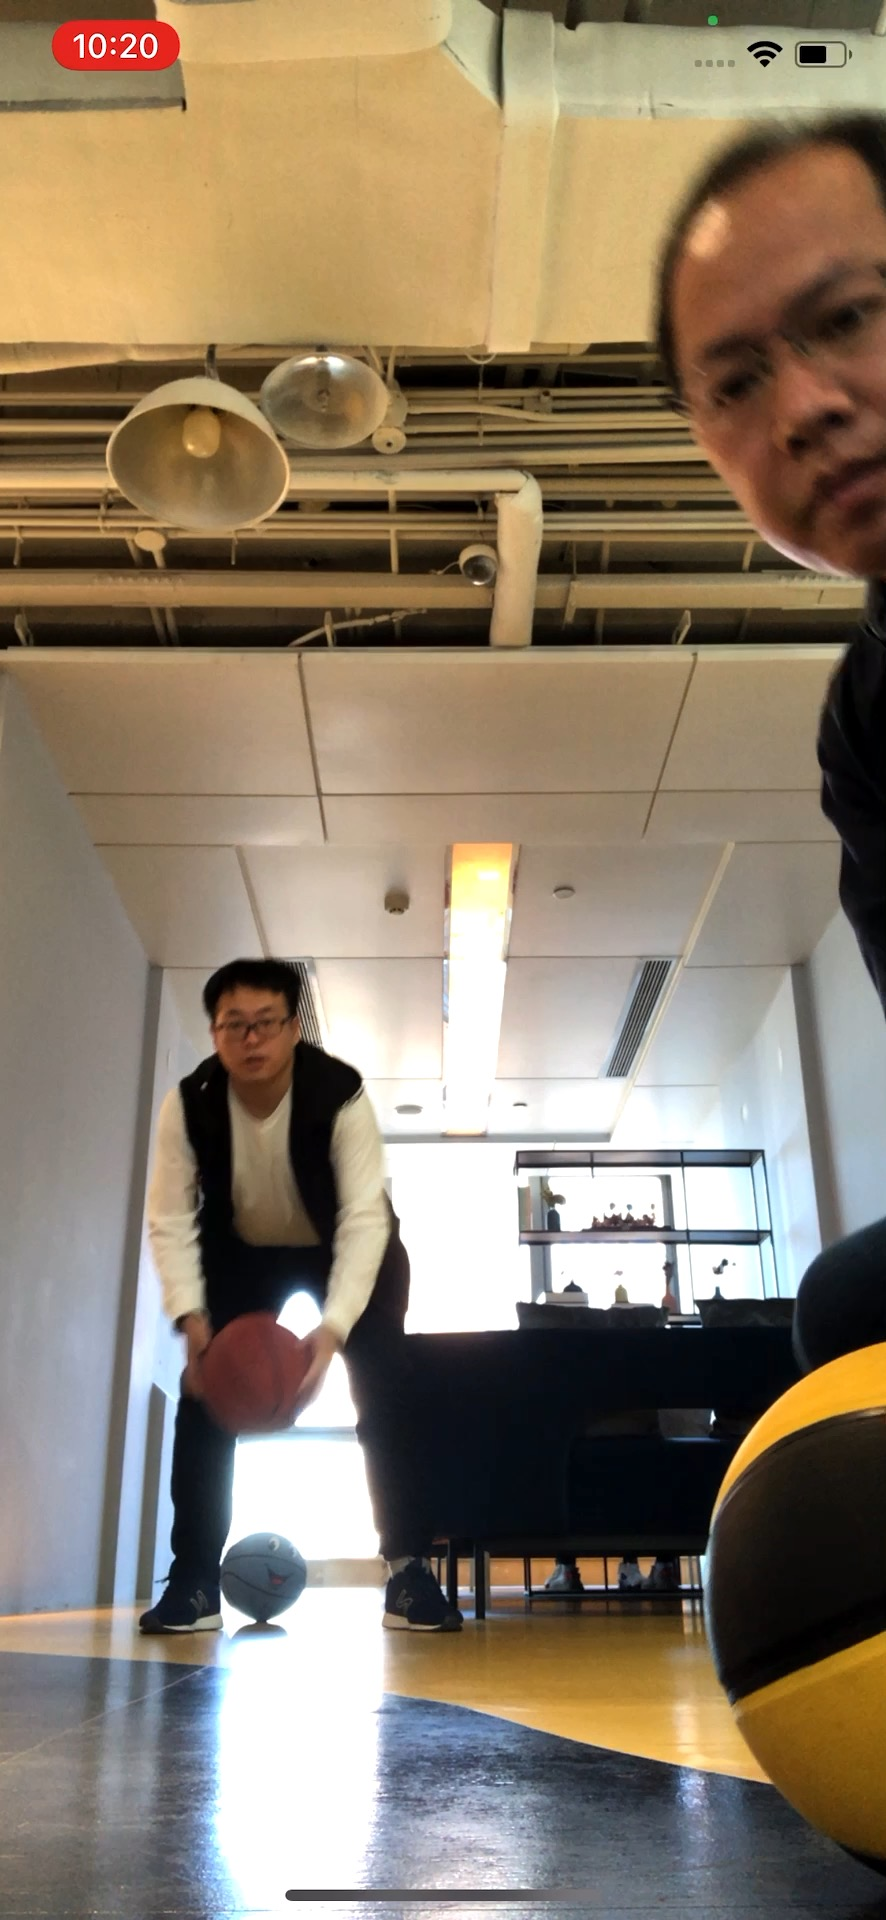ball: (698, 1337, 886, 1878), (195, 1311, 315, 1439), (221, 1533, 308, 1625)
